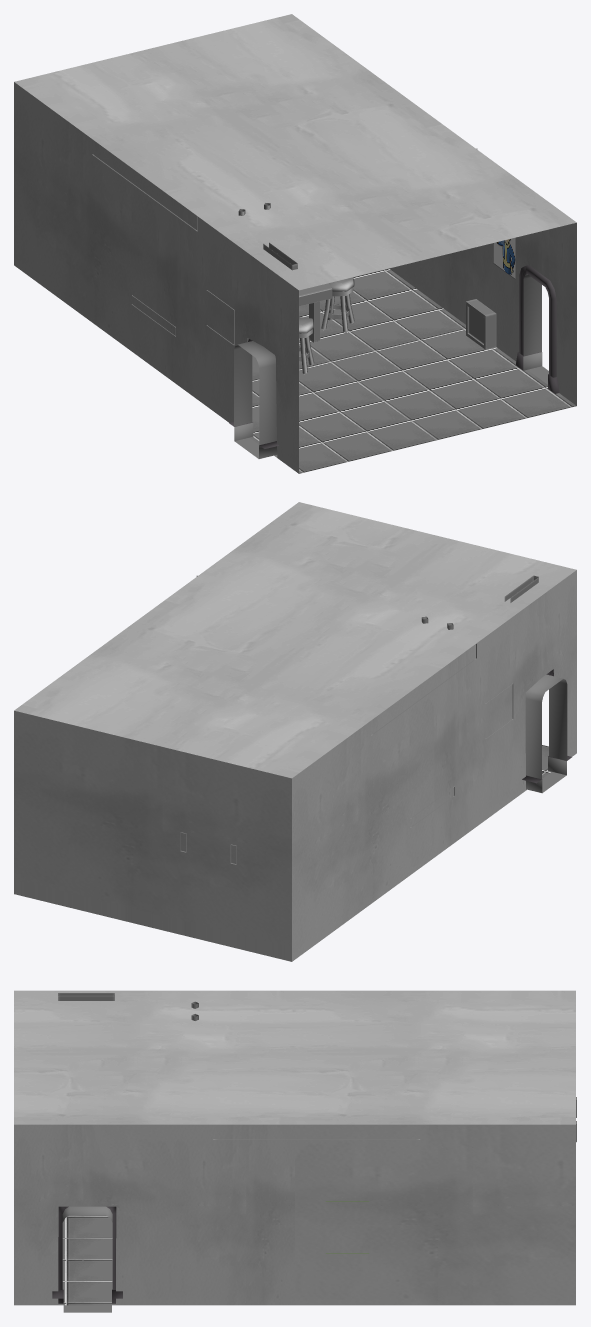
The model's file is MSH_Bar_room_L1_R1.fbx.
The picture shows the model from 3 angles, top to bottom: view 1: azimuth 30°, elevation 25°; view 2: azimuth 150°, elevation 25°; view 3: azimuth 270°, elevation 25°; orthographic projection.
Visible parts, largest first — view 1: MSH_Bar_room_L1_R1_Walls, MSH_Bar_room_L1_R1_lights, MSH_Bar_room_L1_R1 1; view 2: MSH_Bar_room_L1_R1_Walls, MSH_Bar_room_L1_R1_lights, MSH_Bar_room_L1_R1 1; view 3: MSH_Bar_room_L1_R1_Walls, MSH_Bar_room_L1_R1_lights, MSH_Bar_room_L1_R1 1.
Boxes of the visible parts, <box> form: MSH_Bar_room_L1_R1_Walls: <box>14,14,576,473</box>; MSH_Bar_room_L1_R1_lights: <box>234,274,548,458</box>; MSH_Bar_room_L1_R1 1: <box>92,148,515,374</box>; MSH_Bar_room_L1_R1_Walls: <box>14,502,576,961</box>; MSH_Bar_room_L1_R1_lights: <box>525,674,567,793</box>; MSH_Bar_room_L1_R1 1: <box>180,575,513,864</box>; MSH_Bar_room_L1_R1_Walls: <box>14,990,575,1305</box>; MSH_Bar_room_L1_R1_lights: <box>62,1206,112,1312</box>; MSH_Bar_room_L1_R1 1: <box>191,1001,576,1253</box>.
Size of the model in its own units: 10.3 by 6.04 by 16.54.
